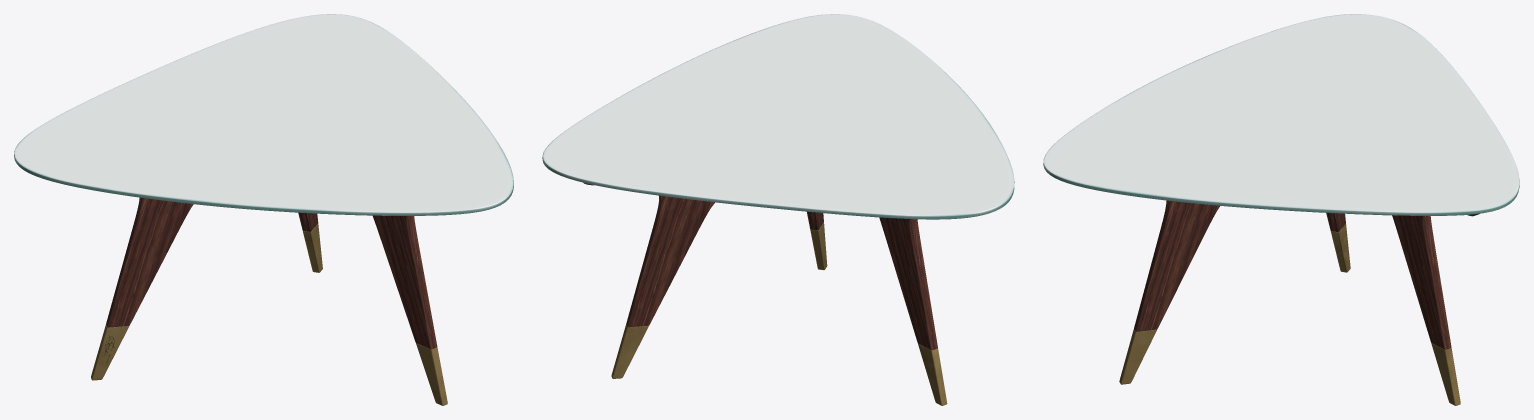
The model's file is d.552.2_-_coffe_table.glb.
3 views of the same model, side by side, from view 1: azimuth 30°, elevation 25°; view 2: azimuth 150°, elevation 25°; view 3: azimuth 270°, elevation 25° (orthographic). The views are drawn at different scales.
Parts seen in each view (by area): view 1: Object002_vetro_0, D552_Ctable001, Object001_Material #4_0; view 2: Object002_vetro_0, D552_Ctable001, Object001_Material #4_0; view 3: Object002_vetro_0, D552_Ctable001, Object001_Material #4_0.
Boxes of the visible parts, x1,y1,x2,y2 form: Object002_vetro_0: [14, 14, 513, 215]; D552_Ctable001: [106, 197, 437, 349]; Object001_Material #4_0: [91, 223, 447, 405]; Object002_vetro_0: [542, 14, 1014, 219]; D552_Ctable001: [583, 182, 937, 350]; Object001_Material #4_0: [611, 222, 947, 405]; Object002_vetro_0: [1043, 14, 1519, 215]; D552_Ctable001: [1134, 200, 1479, 349]; Object001_Material #4_0: [1119, 224, 1460, 405].
Size of the model in its own units: 82.66 by 43.36 by 83.67.
4 materials, 3 textured.
